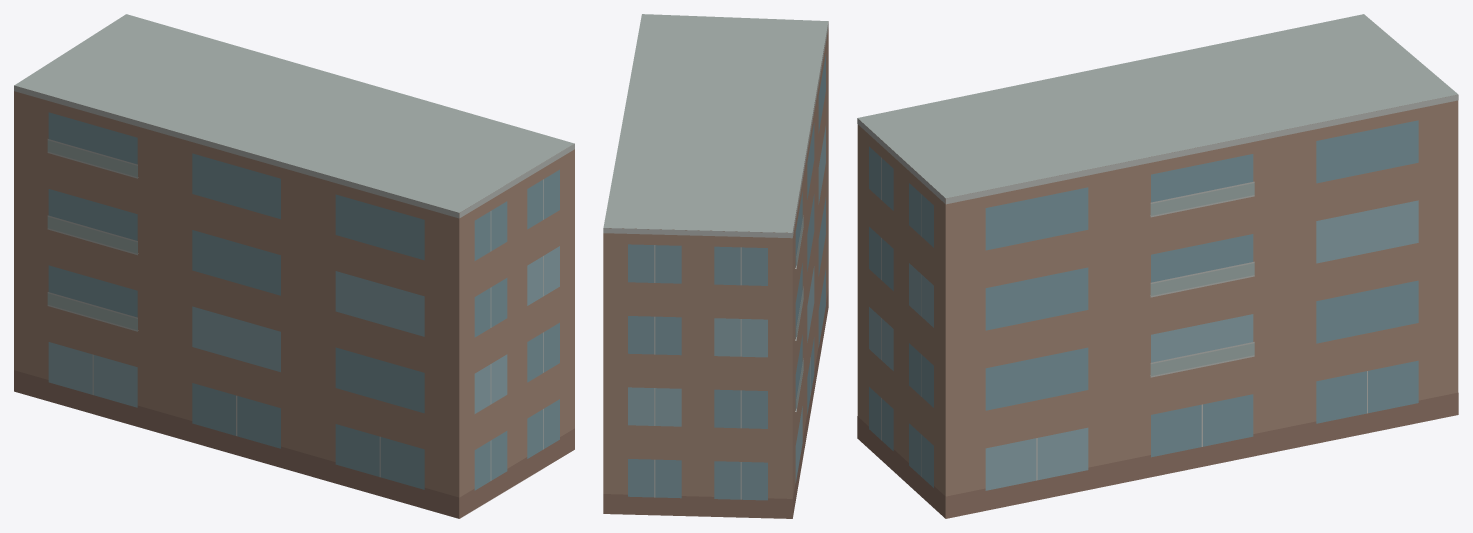
Rendered from survey-upis-32641489.glb.
3 views of the same model, side by side, from view 1: azimuth 30°, elevation 25°; view 2: azimuth 150°, elevation 25°; view 3: azimuth 270°, elevation 25° (orthographic). The views are drawn at different scales.
Visible parts, largest first — view 1: survey-upis-32641489.tmp; view 2: survey-upis-32641489.tmp; view 3: survey-upis-32641489.tmp.
Boxes of the visible parts, <box> form: survey-upis-32641489.tmp: <box>14,14,574,518</box>; survey-upis-32641489.tmp: <box>603,14,828,518</box>; survey-upis-32641489.tmp: <box>857,14,1458,518</box>.
Bounding box in the file's own units: 16.3 × 13.2 × 22.45.
